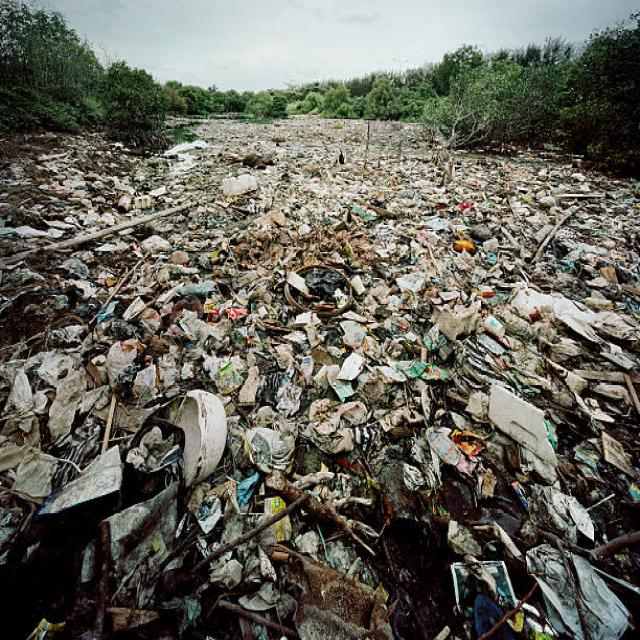trash: (11, 141, 536, 596)
